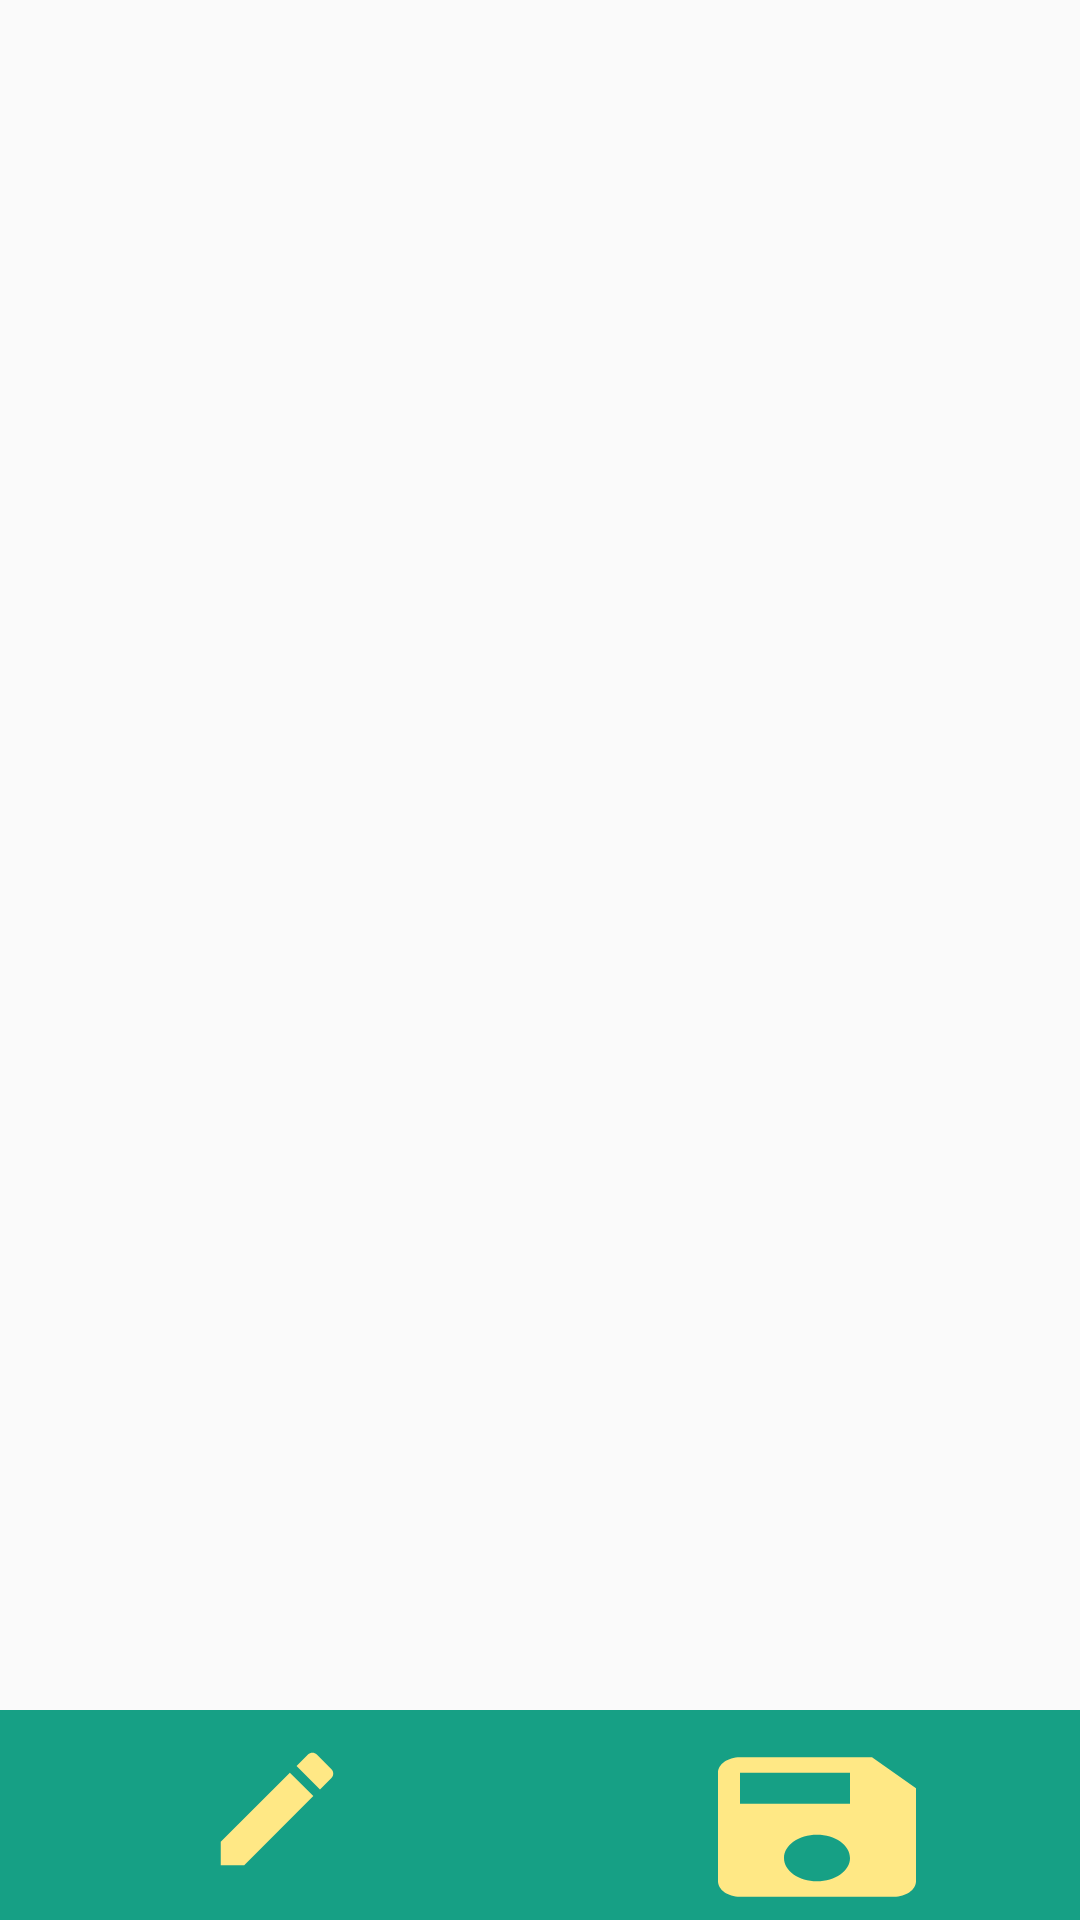

Locate icon controls on the screen. Image size 1080×1920, boxes as (x1, y1, x2, y2).
create caption: (220, 1752, 334, 1866)
save: (718, 1757, 916, 1897)
